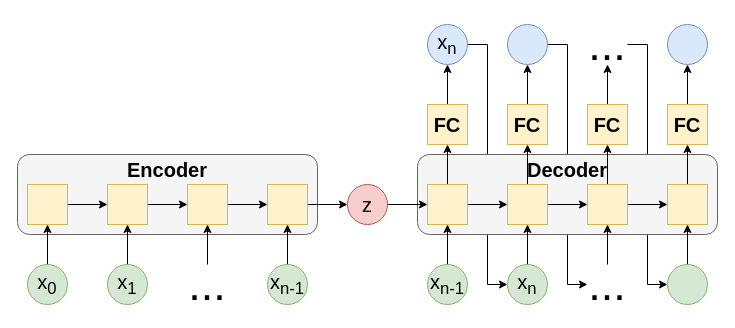
Some shapes in this 735 by 328 pixel diagram are drawn without their labels. The box of each missing label's shape, as (x1, y1, x2, y2) in pixels:
x n+1: (506, 24, 548, 64)
x n+k-1: (666, 24, 708, 64)
x n+k-2: (666, 264, 708, 304)
